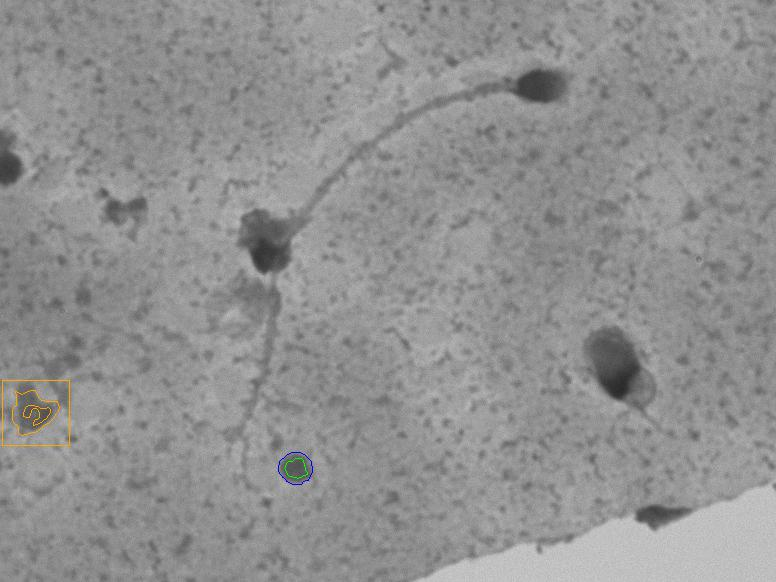Abnormal: (203, 13, 614, 474)
